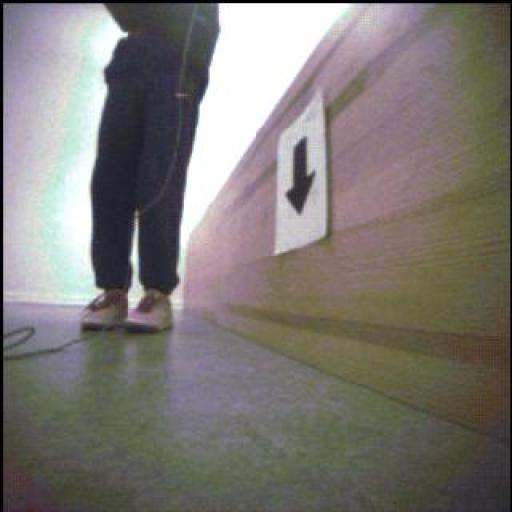Arrow: (288, 139, 317, 216)
